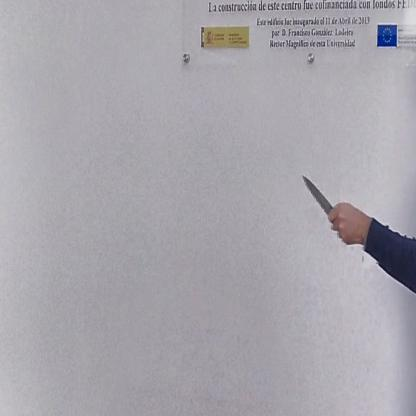knife: (296, 166, 350, 236)
